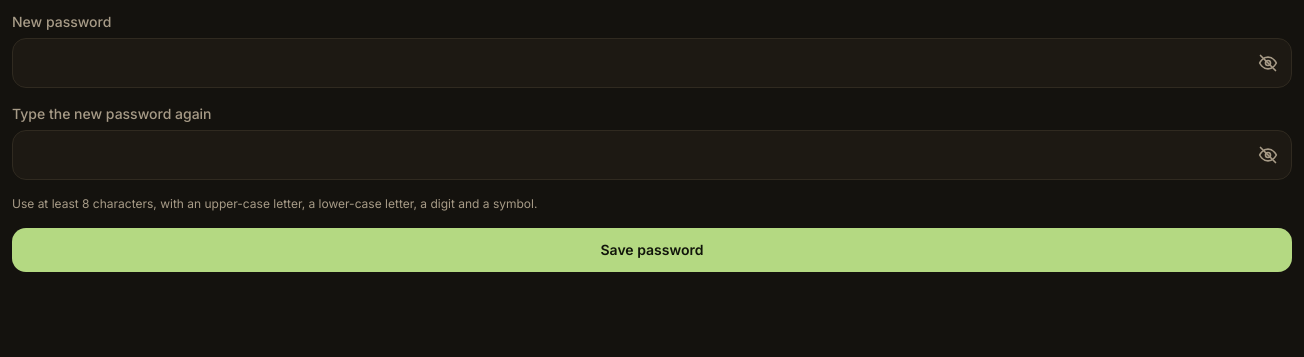
Test: changing the password while signed in (issue #65) › clears both fields after a change, so the page does not hold the password
Type "Abcdef1!" into the password field labelled "New password" at (652, 63), box left=12, top=38, right=1292, bottom=88
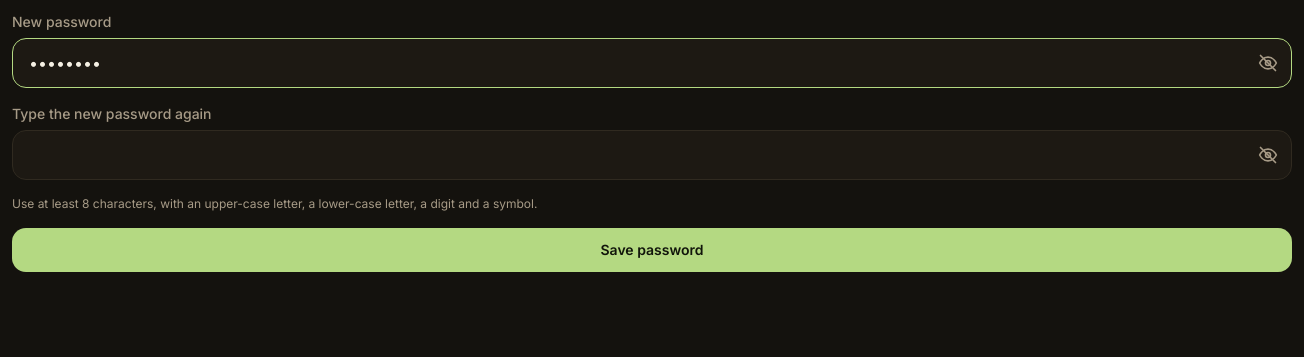
Type "Abcdef1!" into the password field labelled "Type the new password again" at (652, 155), box left=12, top=130, right=1292, bottom=180
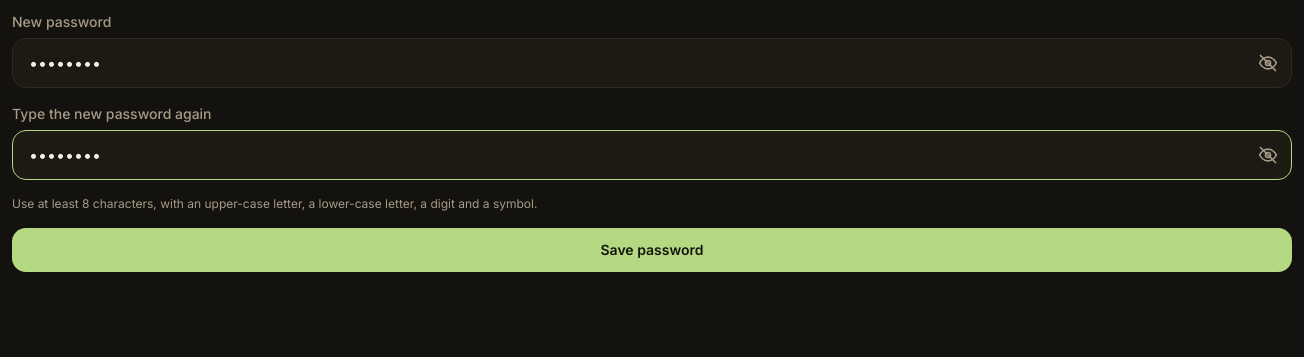
Click the button "Save password" at (652, 250), box left=12, top=228, right=1292, bottom=272
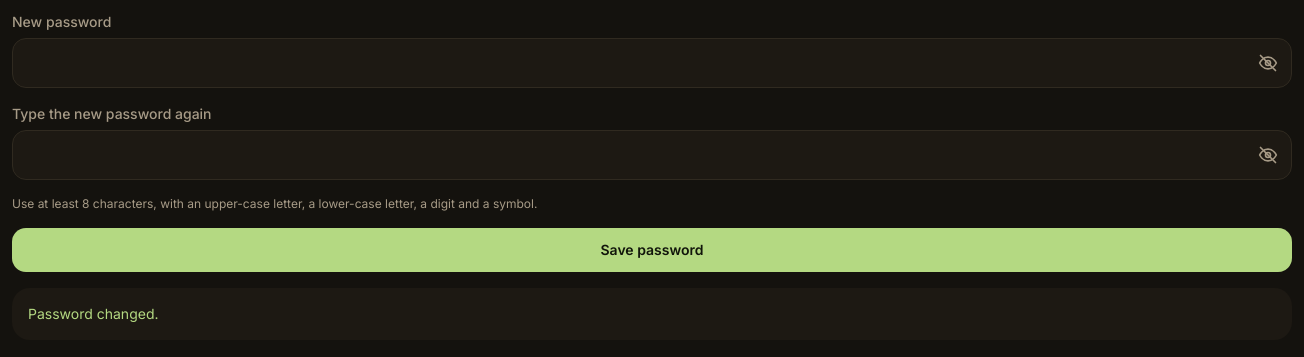
Expected: the message "Password changed." is shown, left=12, top=288, right=1292, bottom=340
Expected: the password field labelled "New password" is empty, left=12, top=38, right=1292, bottom=88
Expected: the password field labelled "Type the new password again" is empty, left=12, top=130, right=1292, bottom=180
